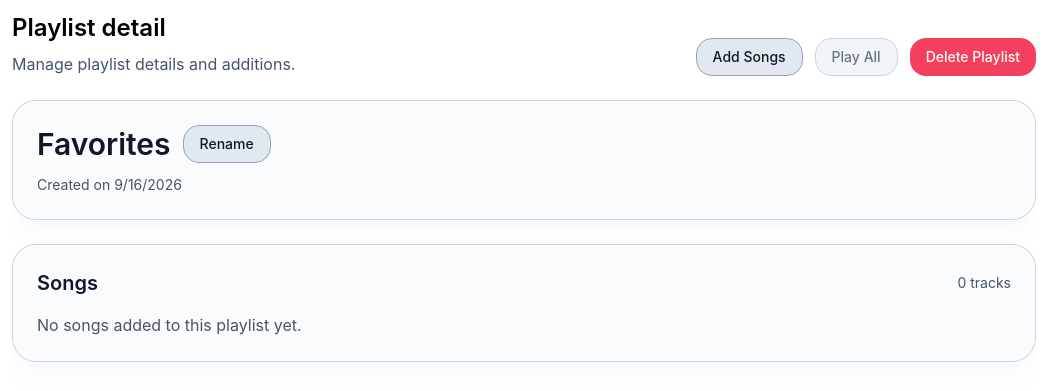
Test: PlaylistDetailPage › renders playlist detail and handles rename UI
The width and height of the screenshot is (1048, 391).
Expected: the heading "Favorites" is shown, [37,126,171,162]
Click the button "Rename" at (227, 144), box [183,125,271,163]
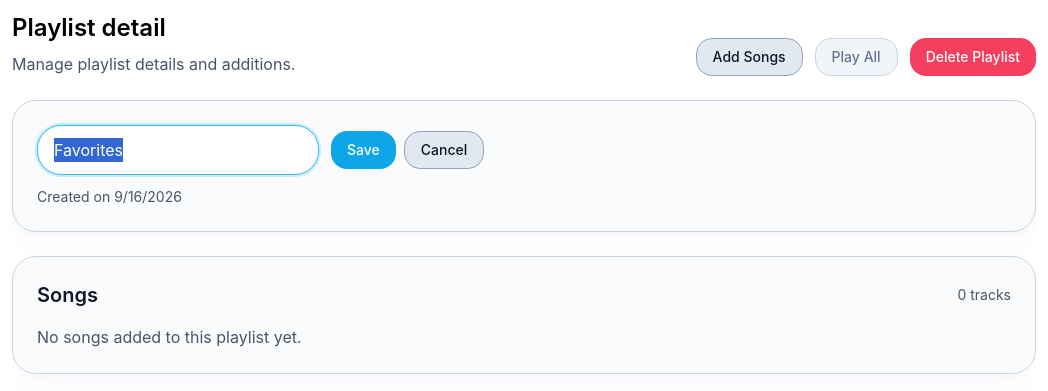
Expected: the field is shown, [37,125,319,175]
